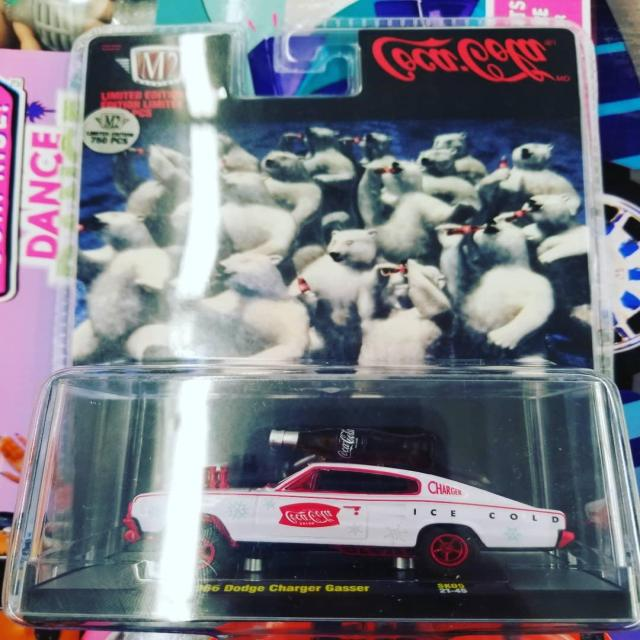coca-cola: (367, 36, 556, 86), (285, 507, 338, 525)
